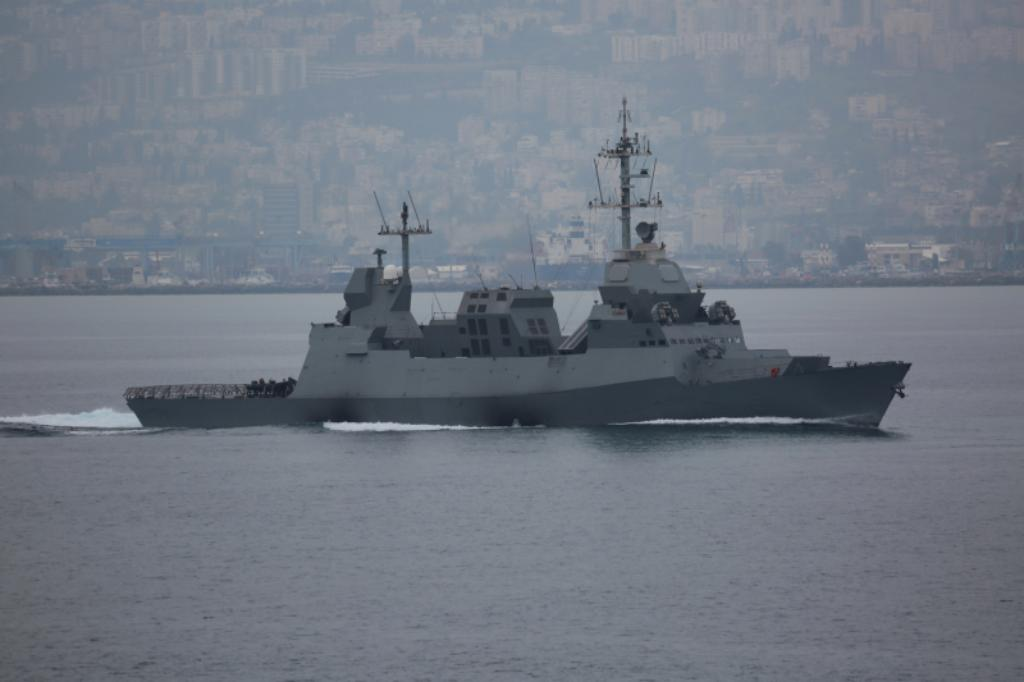Warship: (118, 84, 910, 432)
